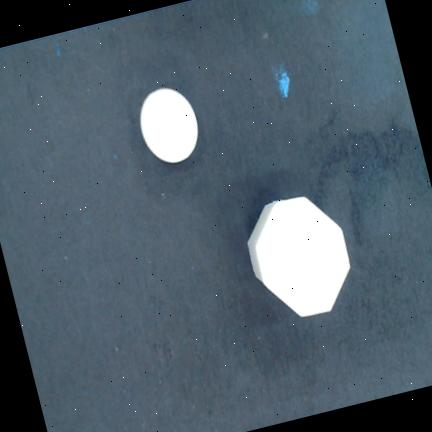Esfera: (140, 88, 198, 163)
Prisma_hexagonal: (248, 195, 351, 317)
